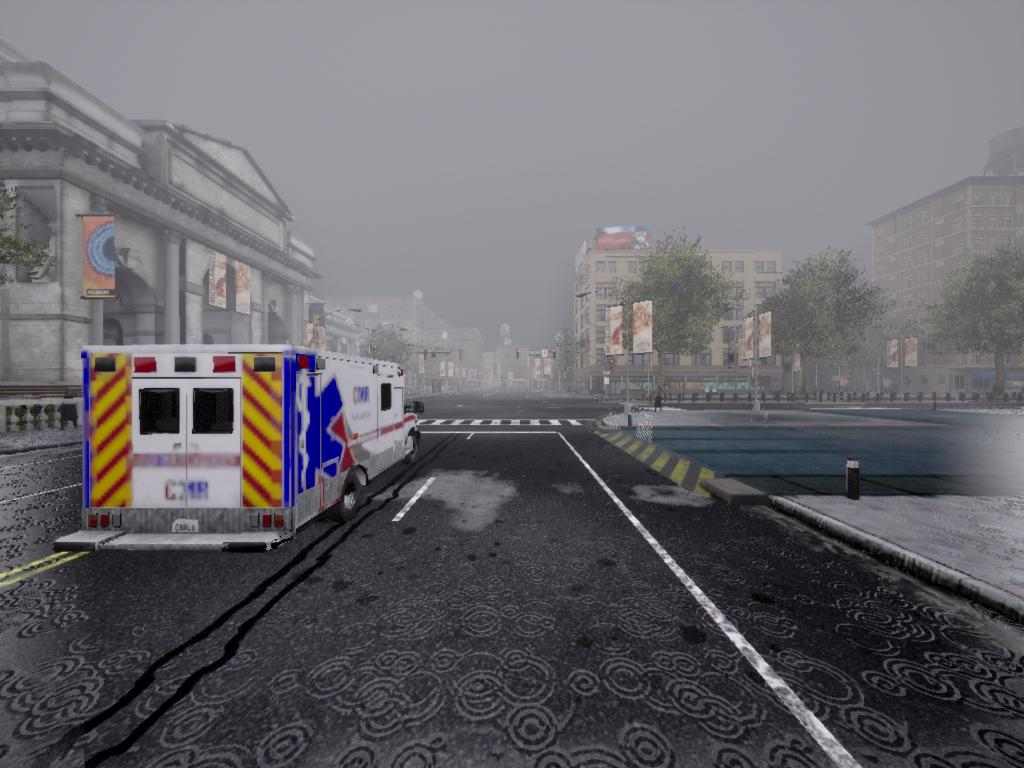traffic_light: (459, 350, 466, 364), (610, 359, 616, 374), (552, 349, 558, 362), (516, 349, 521, 361), (424, 350, 428, 363)
